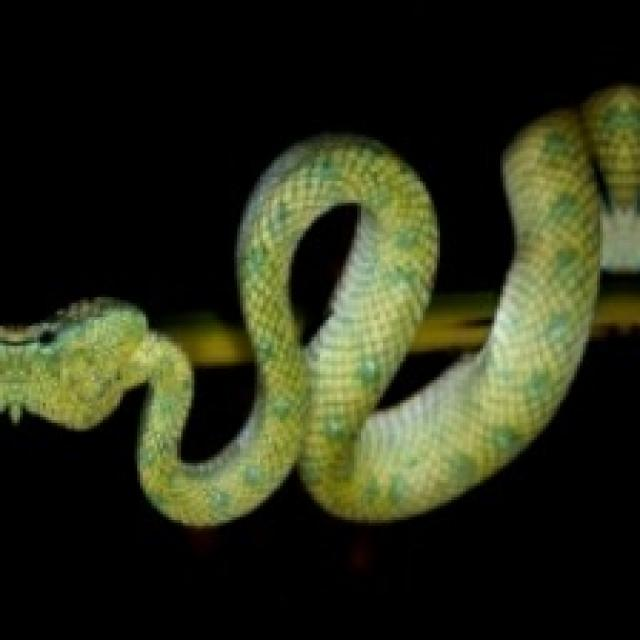north ph temple pitviper: (0, 86, 637, 523), (286, 203, 360, 346)
